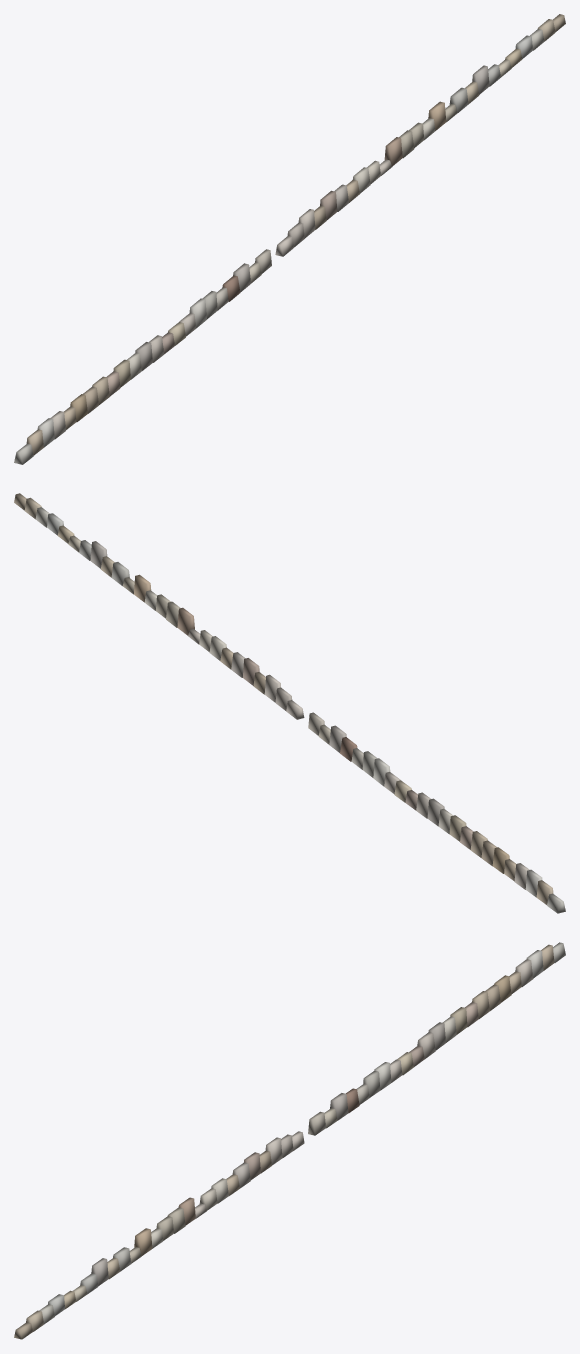
Rendered from farm_-6_3_collision.glb.
3 renders of one model, top to bottom at view 1: azimuth 90°, elevation 25°; view 2: azimuth 150°, elevation 25°; view 3: azimuth 270°, elevation 25°, orthographic. The views are drawn at different scales.
Visible parts, largest first — view 1: geometry_0; view 2: geometry_0; view 3: geometry_0.
Boxes of the visible parts, box(x1,y1,x2,y2) form: geometry_0: box(14, 14, 565, 464); geometry_0: box(14, 493, 565, 913); geometry_0: box(14, 942, 565, 1339).
Size of the model in its own units: 68.96 by 3.34 by 38.79.
